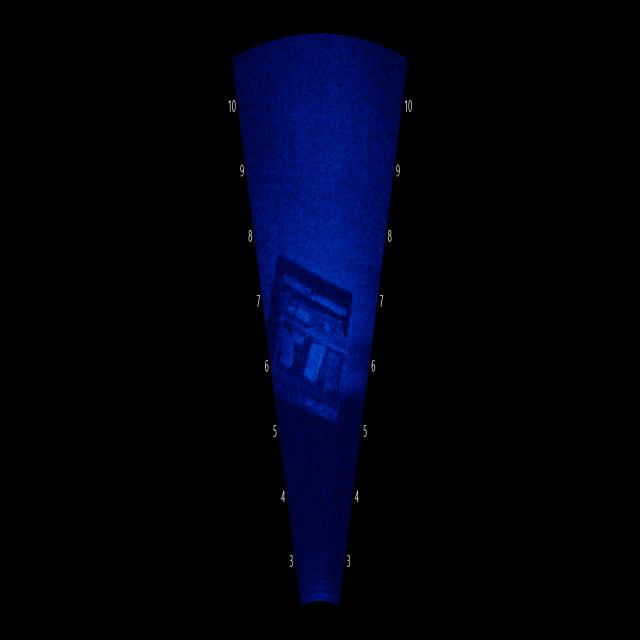square: (260, 242, 360, 440)
